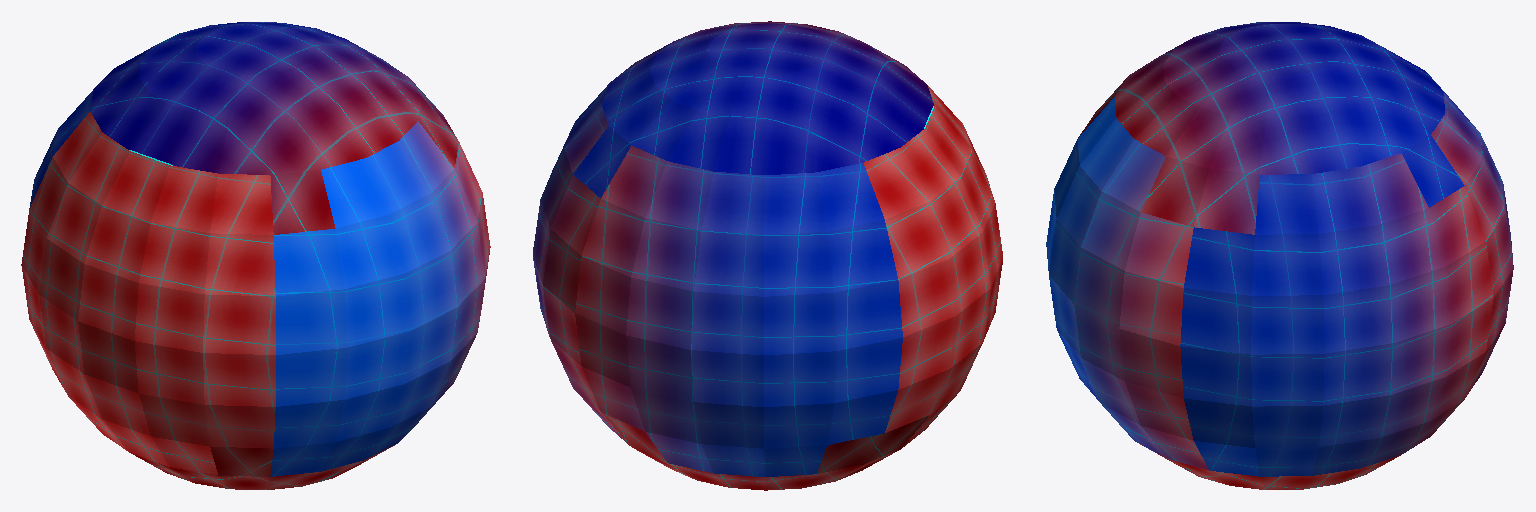
3 views of the same model, side by side, from view 1: azimuth 30°, elevation 25°; view 2: azimuth 150°, elevation 25°; view 3: azimuth 270°, elevation 25° (orthographic).
Visible parts, largest first — view 1: Sphere.001; view 2: Sphere.001; view 3: Sphere.001.
Part boxes in pixels (x1,y1,x2,y2): Sphere.001: (21,22,490,489); Sphere.001: (533,21,1002,490); Sphere.001: (1046,22,1513,489).
Size of the model in its own units: 20.25 by 20.4 by 20.25.
Materials: 1 (1 with a texture image).